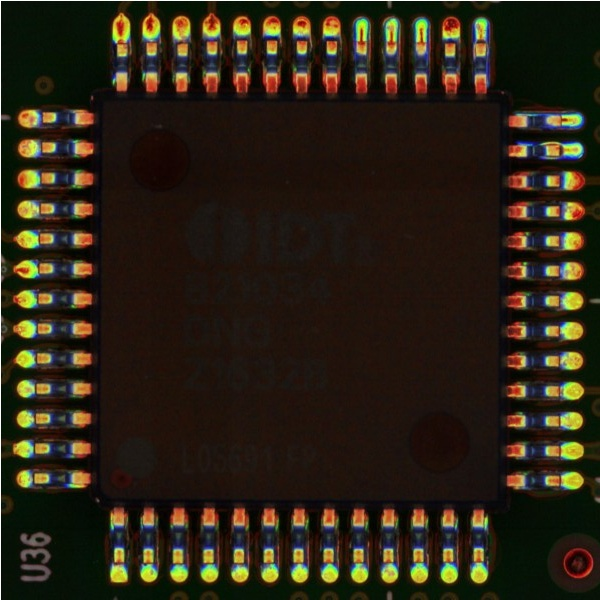Bad_podu: (355, 27, 364, 50), (416, 28, 424, 52), (386, 29, 394, 52), (476, 29, 483, 51), (553, 115, 568, 124), (557, 146, 571, 155)
Bad_qiaojiao: (536, 142, 560, 146), (536, 156, 559, 160)
